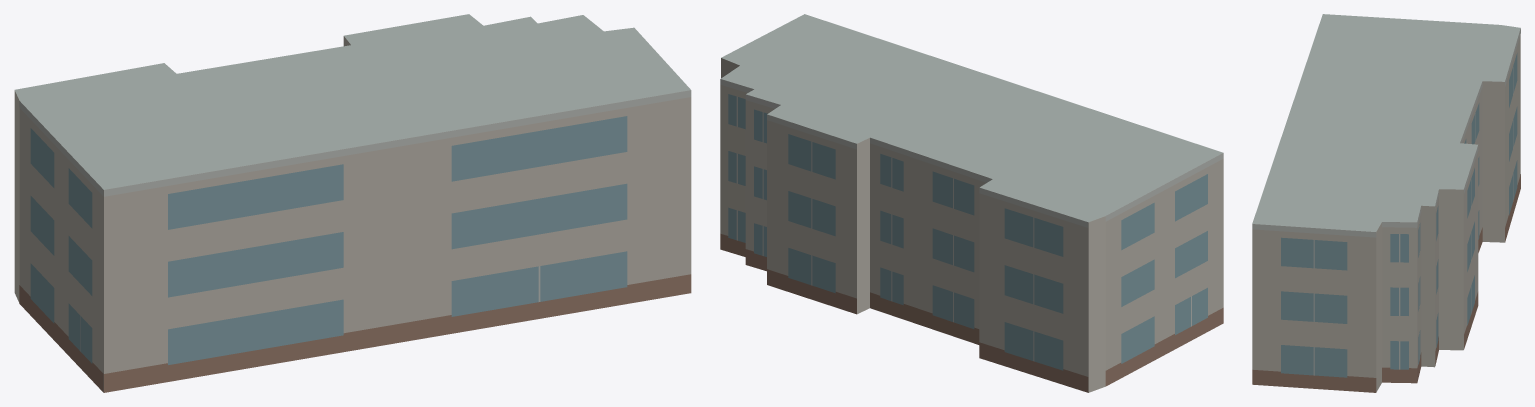
File: survey-upis-32497520.glb
3 views of the same model, side by side, from view 1: azimuth 30°, elevation 25°; view 2: azimuth 150°, elevation 25°; view 3: azimuth 270°, elevation 25° (orthographic). The views are drawn at different scales.
Parts seen in each view (by area): view 1: survey-upis-32497520.tmp; view 2: survey-upis-32497520.tmp; view 3: survey-upis-32497520.tmp.
Part boxes in pixels (x1,y1,x2,y2): survey-upis-32497520.tmp: [14, 14, 691, 392]; survey-upis-32497520.tmp: [720, 14, 1223, 392]; survey-upis-32497520.tmp: [1252, 14, 1520, 392].
Bounding box in the file's own units: 20.96 × 7.2 × 10.91.
